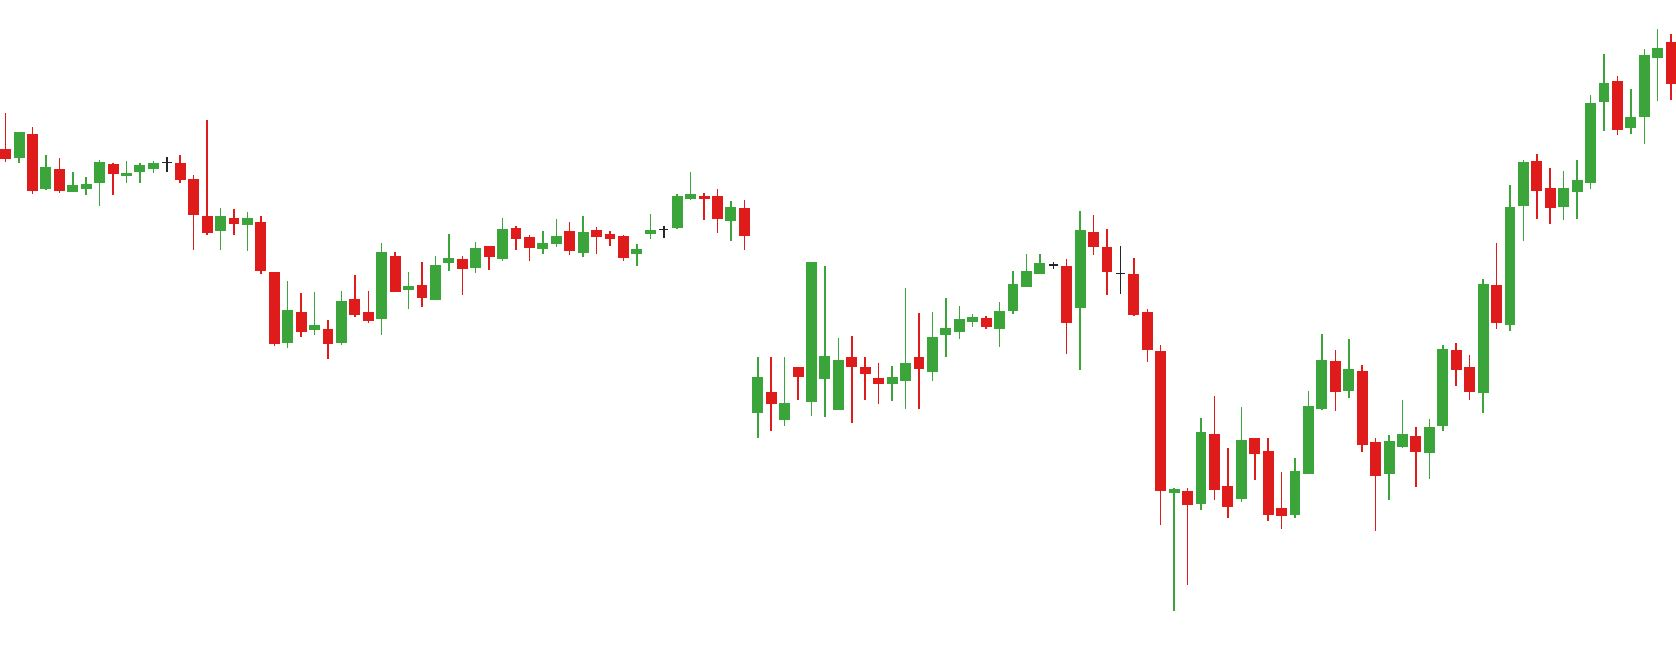buy: (1277, 408, 1396, 532)
